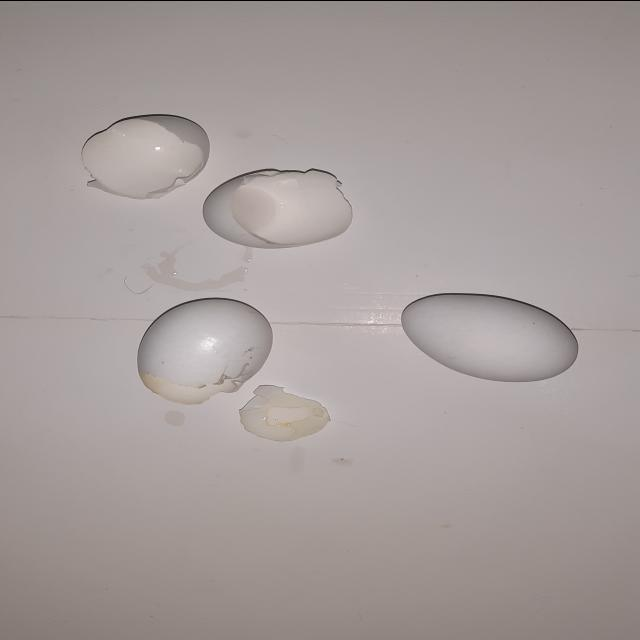egg shell: (394, 288, 584, 392), (136, 290, 275, 404), (198, 166, 360, 252), (77, 110, 217, 200), (234, 375, 329, 444)
